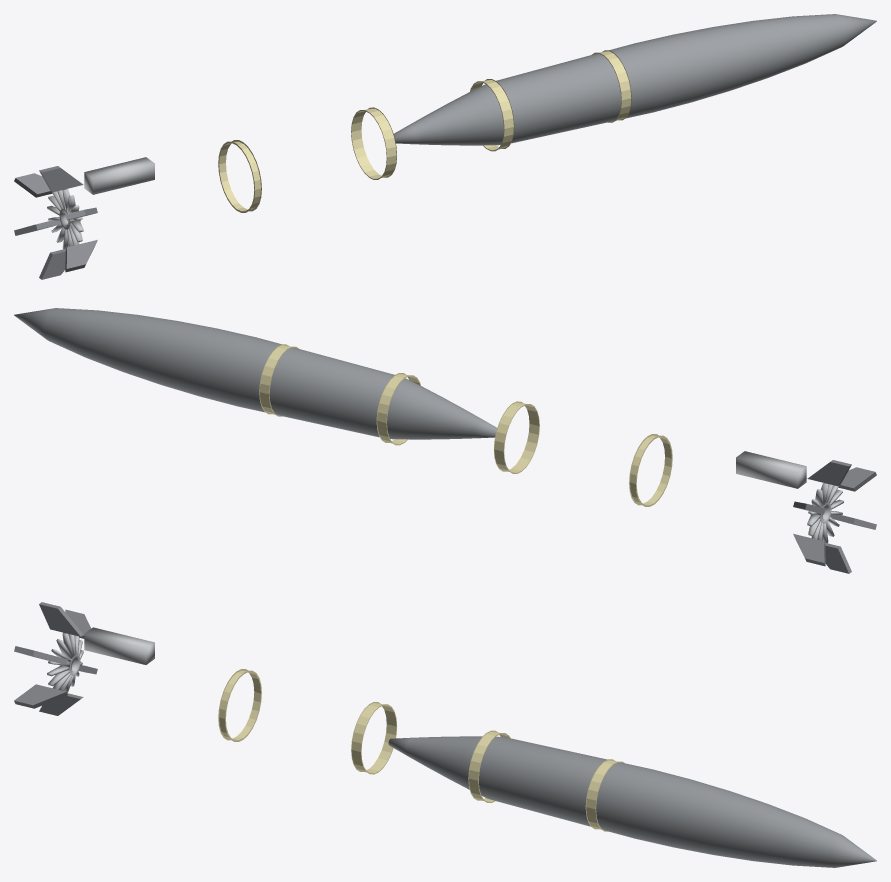
The model's file is RU_TORP_USET80K_LOD1.fbx.
3 renders of one model, top to bottom at view 1: azimuth 30°, elevation 25°; view 2: azimuth 150°, elevation 25°; view 3: azimuth 330°, elevation 25°, orthographic.
Parts seen in each view (by area): view 1: WPN_RU_TORP_USET80K_LOD1_Body, WPN_RU_TORP_USET80K_LOD1_Marking, WPN_RU_TORP_USET80K_LOD1_Fins, WPN_RU_TORP_USET80K_LOD1_Detail, WPN_RU_TORP_USET80K_LOD1_Propulsor; view 2: WPN_RU_TORP_USET80K_LOD1_Body, WPN_RU_TORP_USET80K_LOD1_Marking, WPN_RU_TORP_USET80K_LOD1_Fins, WPN_RU_TORP_USET80K_LOD1_Detail, WPN_RU_TORP_USET80K_LOD1_Propulsor; view 3: WPN_RU_TORP_USET80K_LOD1_Body, WPN_RU_TORP_USET80K_LOD1_Marking, WPN_RU_TORP_USET80K_LOD1_Fins, WPN_RU_TORP_USET80K_LOD1_Detail, WPN_RU_TORP_USET80K_LOD1_Propulsor.
Boxes of the visible parts, bbox=[...] form: WPN_RU_TORP_USET80K_LOD1_Body: bbox=[393, 14, 876, 145]; WPN_RU_TORP_USET80K_LOD1_Marking: bbox=[218, 50, 631, 212]; WPN_RU_TORP_USET80K_LOD1_Fins: bbox=[14, 166, 97, 279]; WPN_RU_TORP_USET80K_LOD1_Detail: bbox=[84, 157, 154, 194]; WPN_RU_TORP_USET80K_LOD1_Propulsor: bbox=[47, 189, 83, 249]; WPN_RU_TORP_USET80K_LOD1_Body: bbox=[14, 308, 497, 439]; WPN_RU_TORP_USET80K_LOD1_Marking: bbox=[259, 344, 672, 506]; WPN_RU_TORP_USET80K_LOD1_Fins: bbox=[793, 460, 876, 573]; WPN_RU_TORP_USET80K_LOD1_Detail: bbox=[736, 451, 806, 488]; WPN_RU_TORP_USET80K_LOD1_Propulsor: bbox=[807, 483, 843, 543]; WPN_RU_TORP_USET80K_LOD1_Body: bbox=[388, 736, 876, 867]; WPN_RU_TORP_USET80K_LOD1_Marking: bbox=[218, 669, 624, 831]; WPN_RU_TORP_USET80K_LOD1_Fins: bbox=[14, 602, 97, 715]; WPN_RU_TORP_USET80K_LOD1_Detail: bbox=[84, 627, 154, 664]; WPN_RU_TORP_USET80K_LOD1_Propulsor: bbox=[47, 632, 83, 692].
Size of the model in its own units: 7.19 by 0.7848 by 0.8816.
